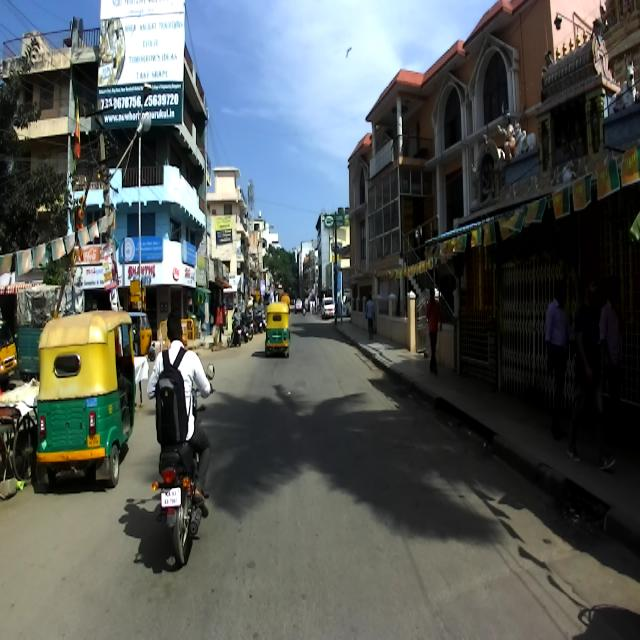auto ahead at: (38, 304, 136, 504)
motorcycle ahead at: (152, 442, 216, 563)
